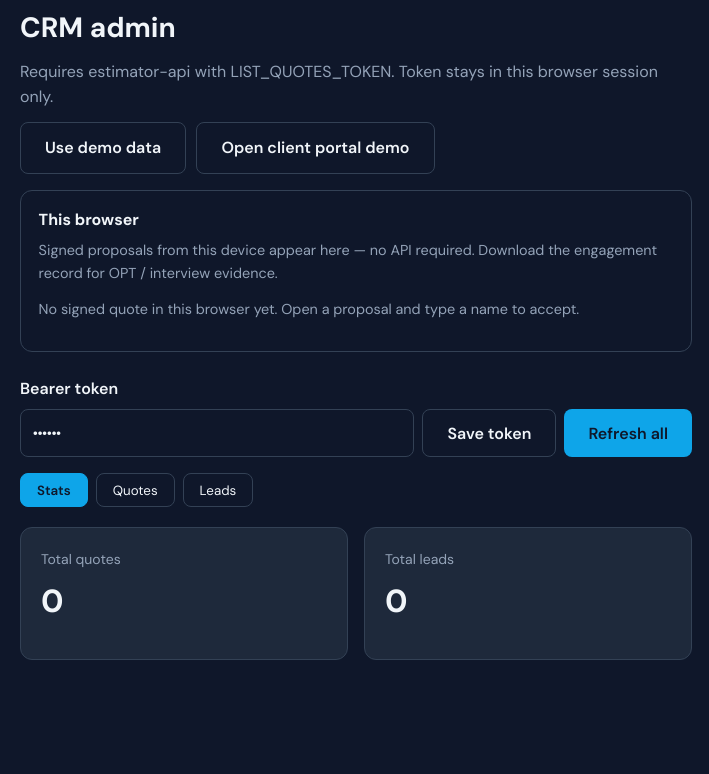
Test case: CrmAdmin › toggles back to live API and reports a non-Error refresh failure
Check: the text "Total quotes" is shown, box [41,550,121,568]
Click the button "Use demo data": (103, 148) [20,122,186,174]
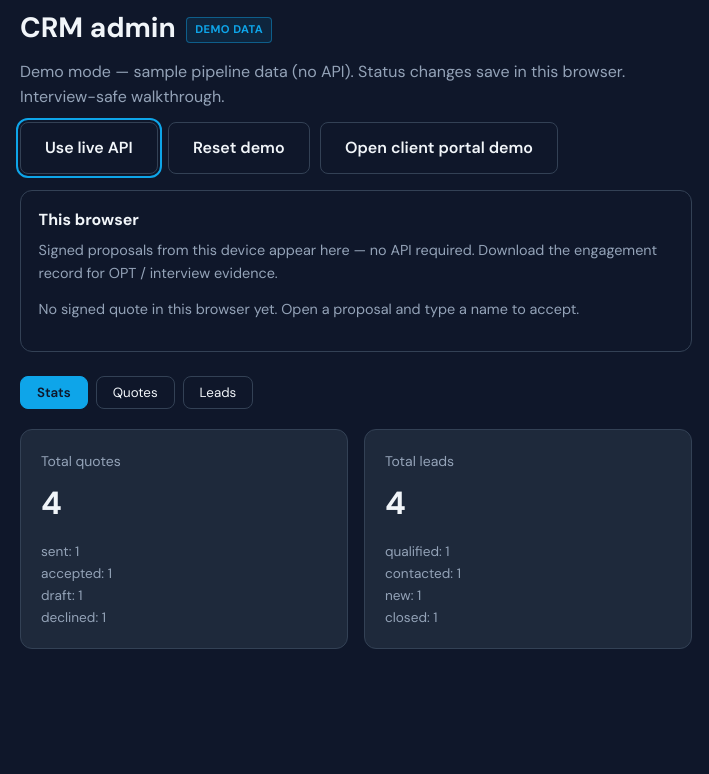
Check: the text "Demo data" is shown, box [186,17,272,43]
Click the button "Use live API": (89, 148) [20,122,158,174]
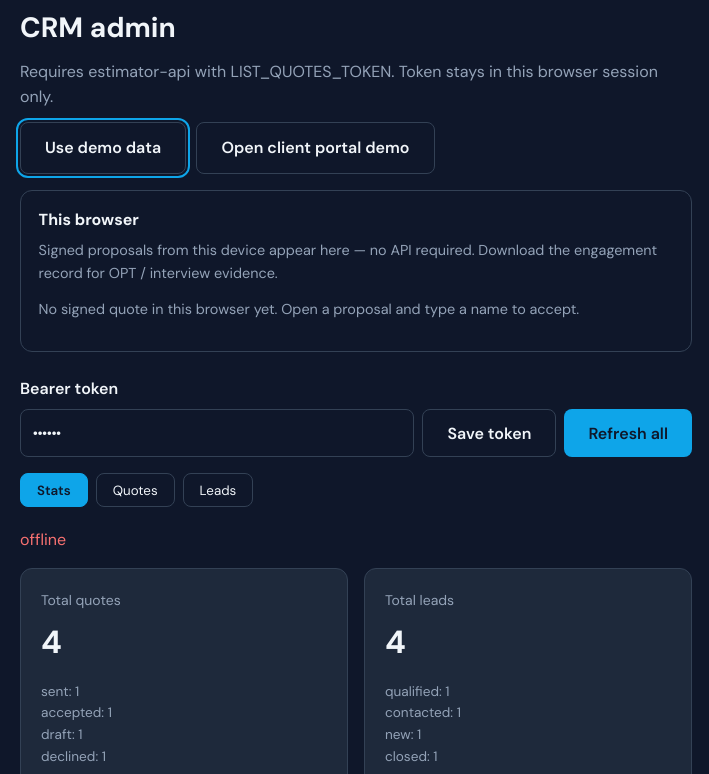
Check: the message reads "offline", box [20,529,66,550]
